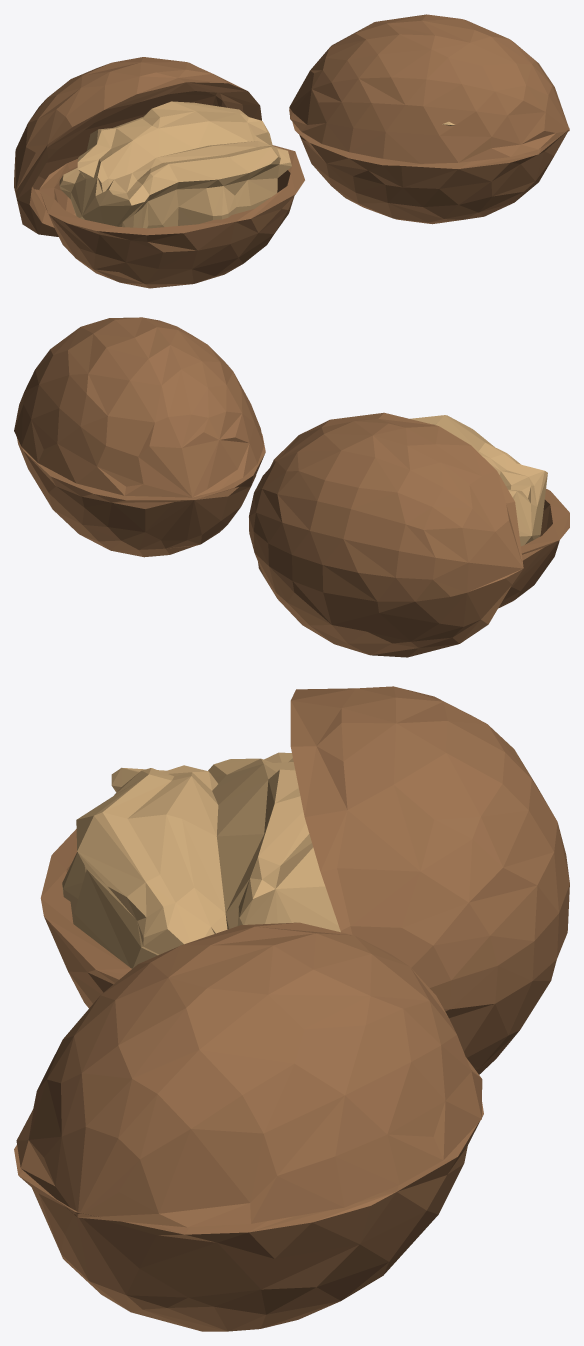
The model's file is m_walnut.glb.
The picture shows the model from 3 angles, top to bottom: view 1: azimuth 30°, elevation 25°; view 2: azimuth 150°, elevation 25°; view 3: azimuth 270°, elevation 25°; orthographic projection. The views are drawn at different scales.
Visible parts, largest first — view 1: Sphere001; view 2: Sphere001; view 3: Sphere001.
Boxes of the visible parts, x1=… form: Sphere001: x1=14, y1=14, x2=569, y2=288; Sphere001: x1=14, y1=317, x2=569, y2=657; Sphere001: x1=14, y1=686, x2=569, y2=1331.
Size of the model in its own units: 39.04 by 14.29 by 20.
